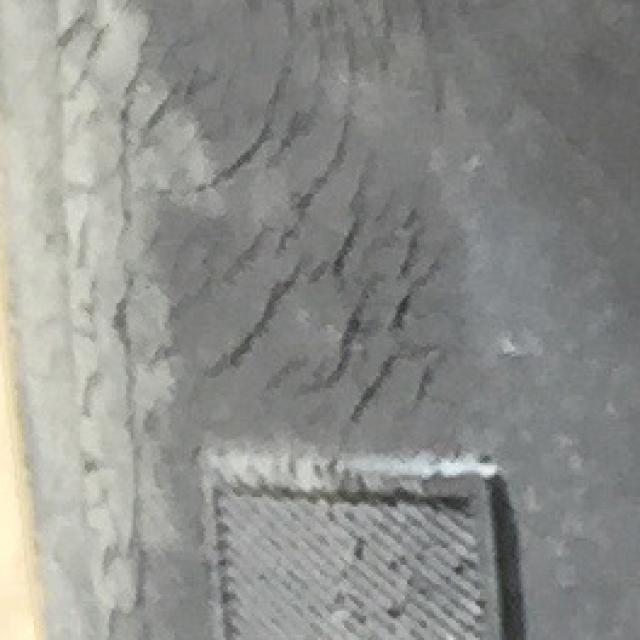Cracks: (0, 0, 514, 640)
